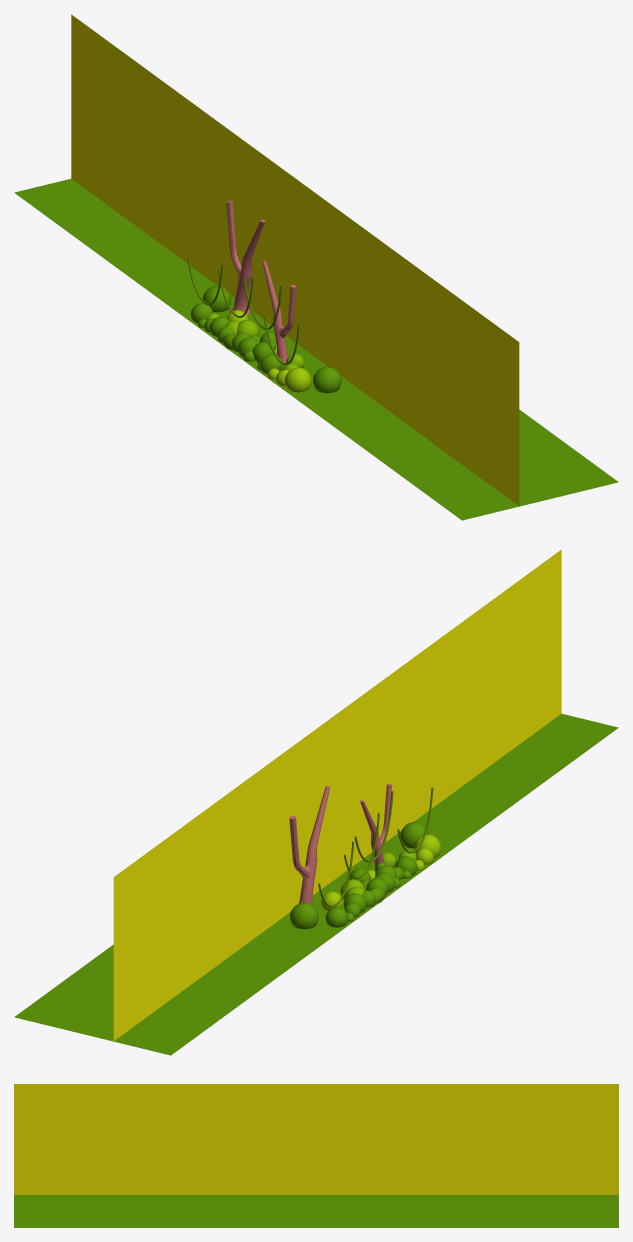
The model's file is hideandsmash_bg.fbx.
The picture shows the model from 3 angles, top to bottom: view 1: azimuth 30°, elevation 25°; view 2: azimuth 150°, elevation 25°; view 3: azimuth 270°, elevation 25°; orthographic projection. The views are drawn at different scales.
Parts seen in each view (by area): view 1: sky_geo, grass_geo, trunk1_geo, trunk2_geo; view 2: sky_geo, grass_geo, trunk1_geo, trunk2_geo; view 3: sky_geo, grass_geo.
Boxes of the visible parts, left/top/right/bottom form: sky_geo: left=71, top=14, right=519, bottom=505; grass_geo: left=14, top=178, right=618, bottom=520; trunk1_geo: left=226, top=200, right=265, bottom=315; trunk2_geo: left=262, top=260, right=296, bottom=362; sky_geo: left=113, top=549, right=561, bottom=1040; grass_geo: left=14, top=713, right=618, bottom=1055; trunk1_geo: left=289, top=786, right=330, bottom=904; trunk2_geo: left=360, top=784, right=391, bottom=871; sky_geo: left=14, top=1084, right=618, bottom=1194; grass_geo: left=14, top=1195, right=618, bottom=1227.
Size of the model in its own units: 98.33 by 101 by 486.
